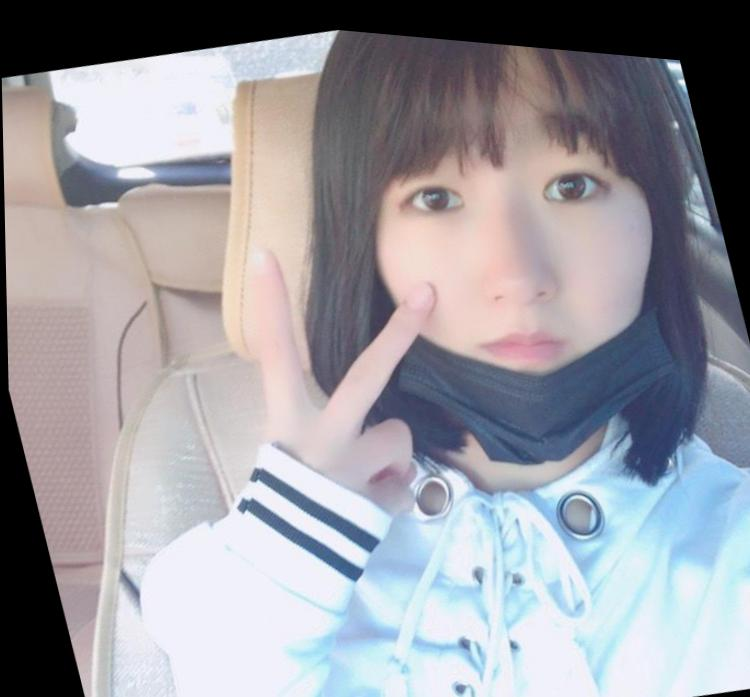WRONG: (333, 37, 702, 460)
